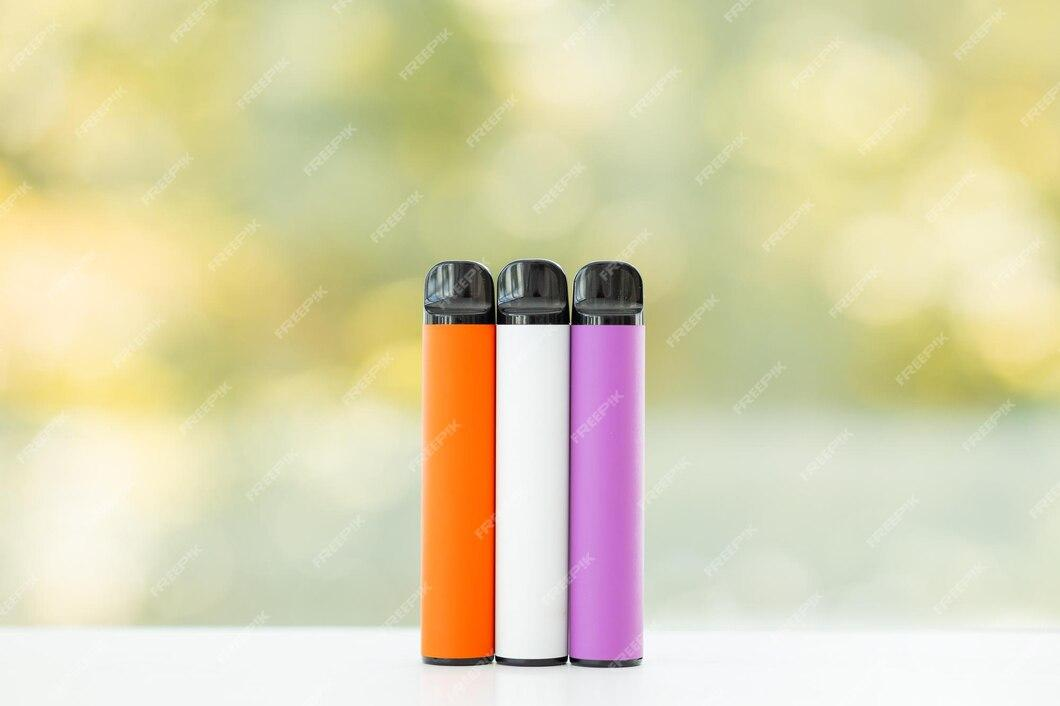Vape: (494, 259, 570, 665), (421, 260, 495, 663), (570, 262, 644, 665)
